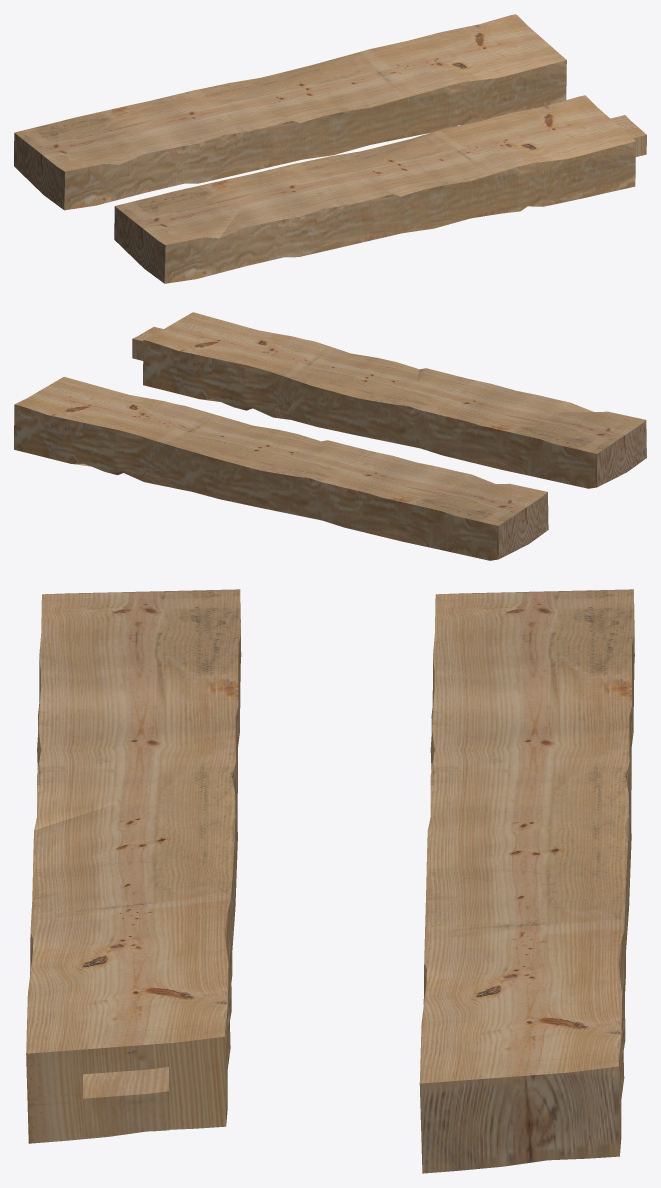
The model's file is SunTouJi_MuTou.fbx.
3 renders of one model, top to bottom at view 1: azimuth 30°, elevation 25°; view 2: azimuth 150°, elevation 25°; view 3: azimuth 270°, elevation 25°, orthographic. The views are drawn at different scales.
Parts seen in each view (by area): view 1: MuTou, MuTou1; view 2: MuTou, MuTou1; view 3: MuTou, MuTou1.
Boxes of the visible parts, left/top/right/bottom form: MuTou: left=14, top=14, right=566, bottom=210; MuTou1: left=114, top=95, right=646, bottom=283; MuTou: left=14, top=377, right=548, bottom=560; MuTou1: left=132, top=312, right=646, bottom=488; MuTou: left=419, top=589, right=634, bottom=1173; MuTou1: left=26, top=589, right=241, bottom=1143.
Bounding box in the file's own units: 40.32 × 4.29 × 21.74.
Materials: 1 (1 with a texture image).
